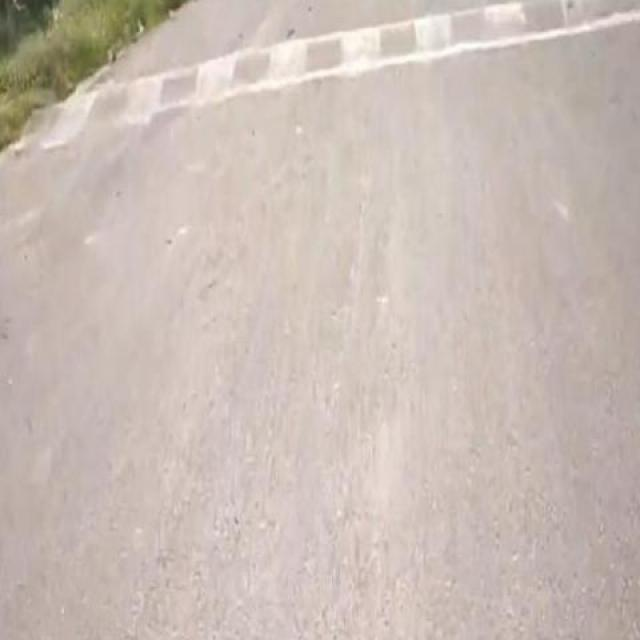Speed Bump: (20, 0, 639, 151)
